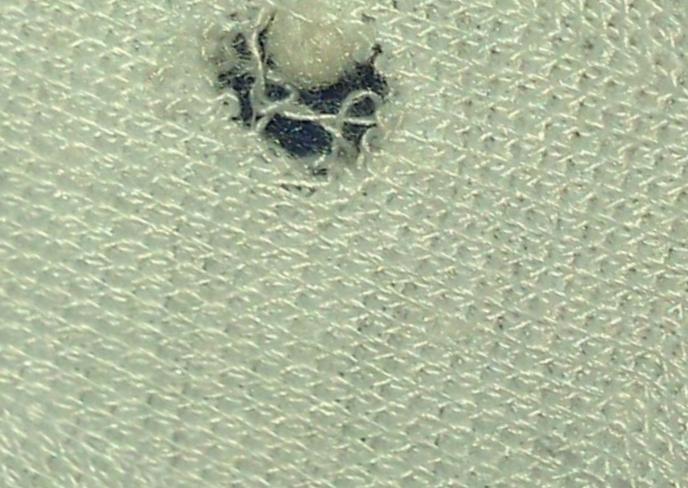hole: (262, 14, 376, 91)
